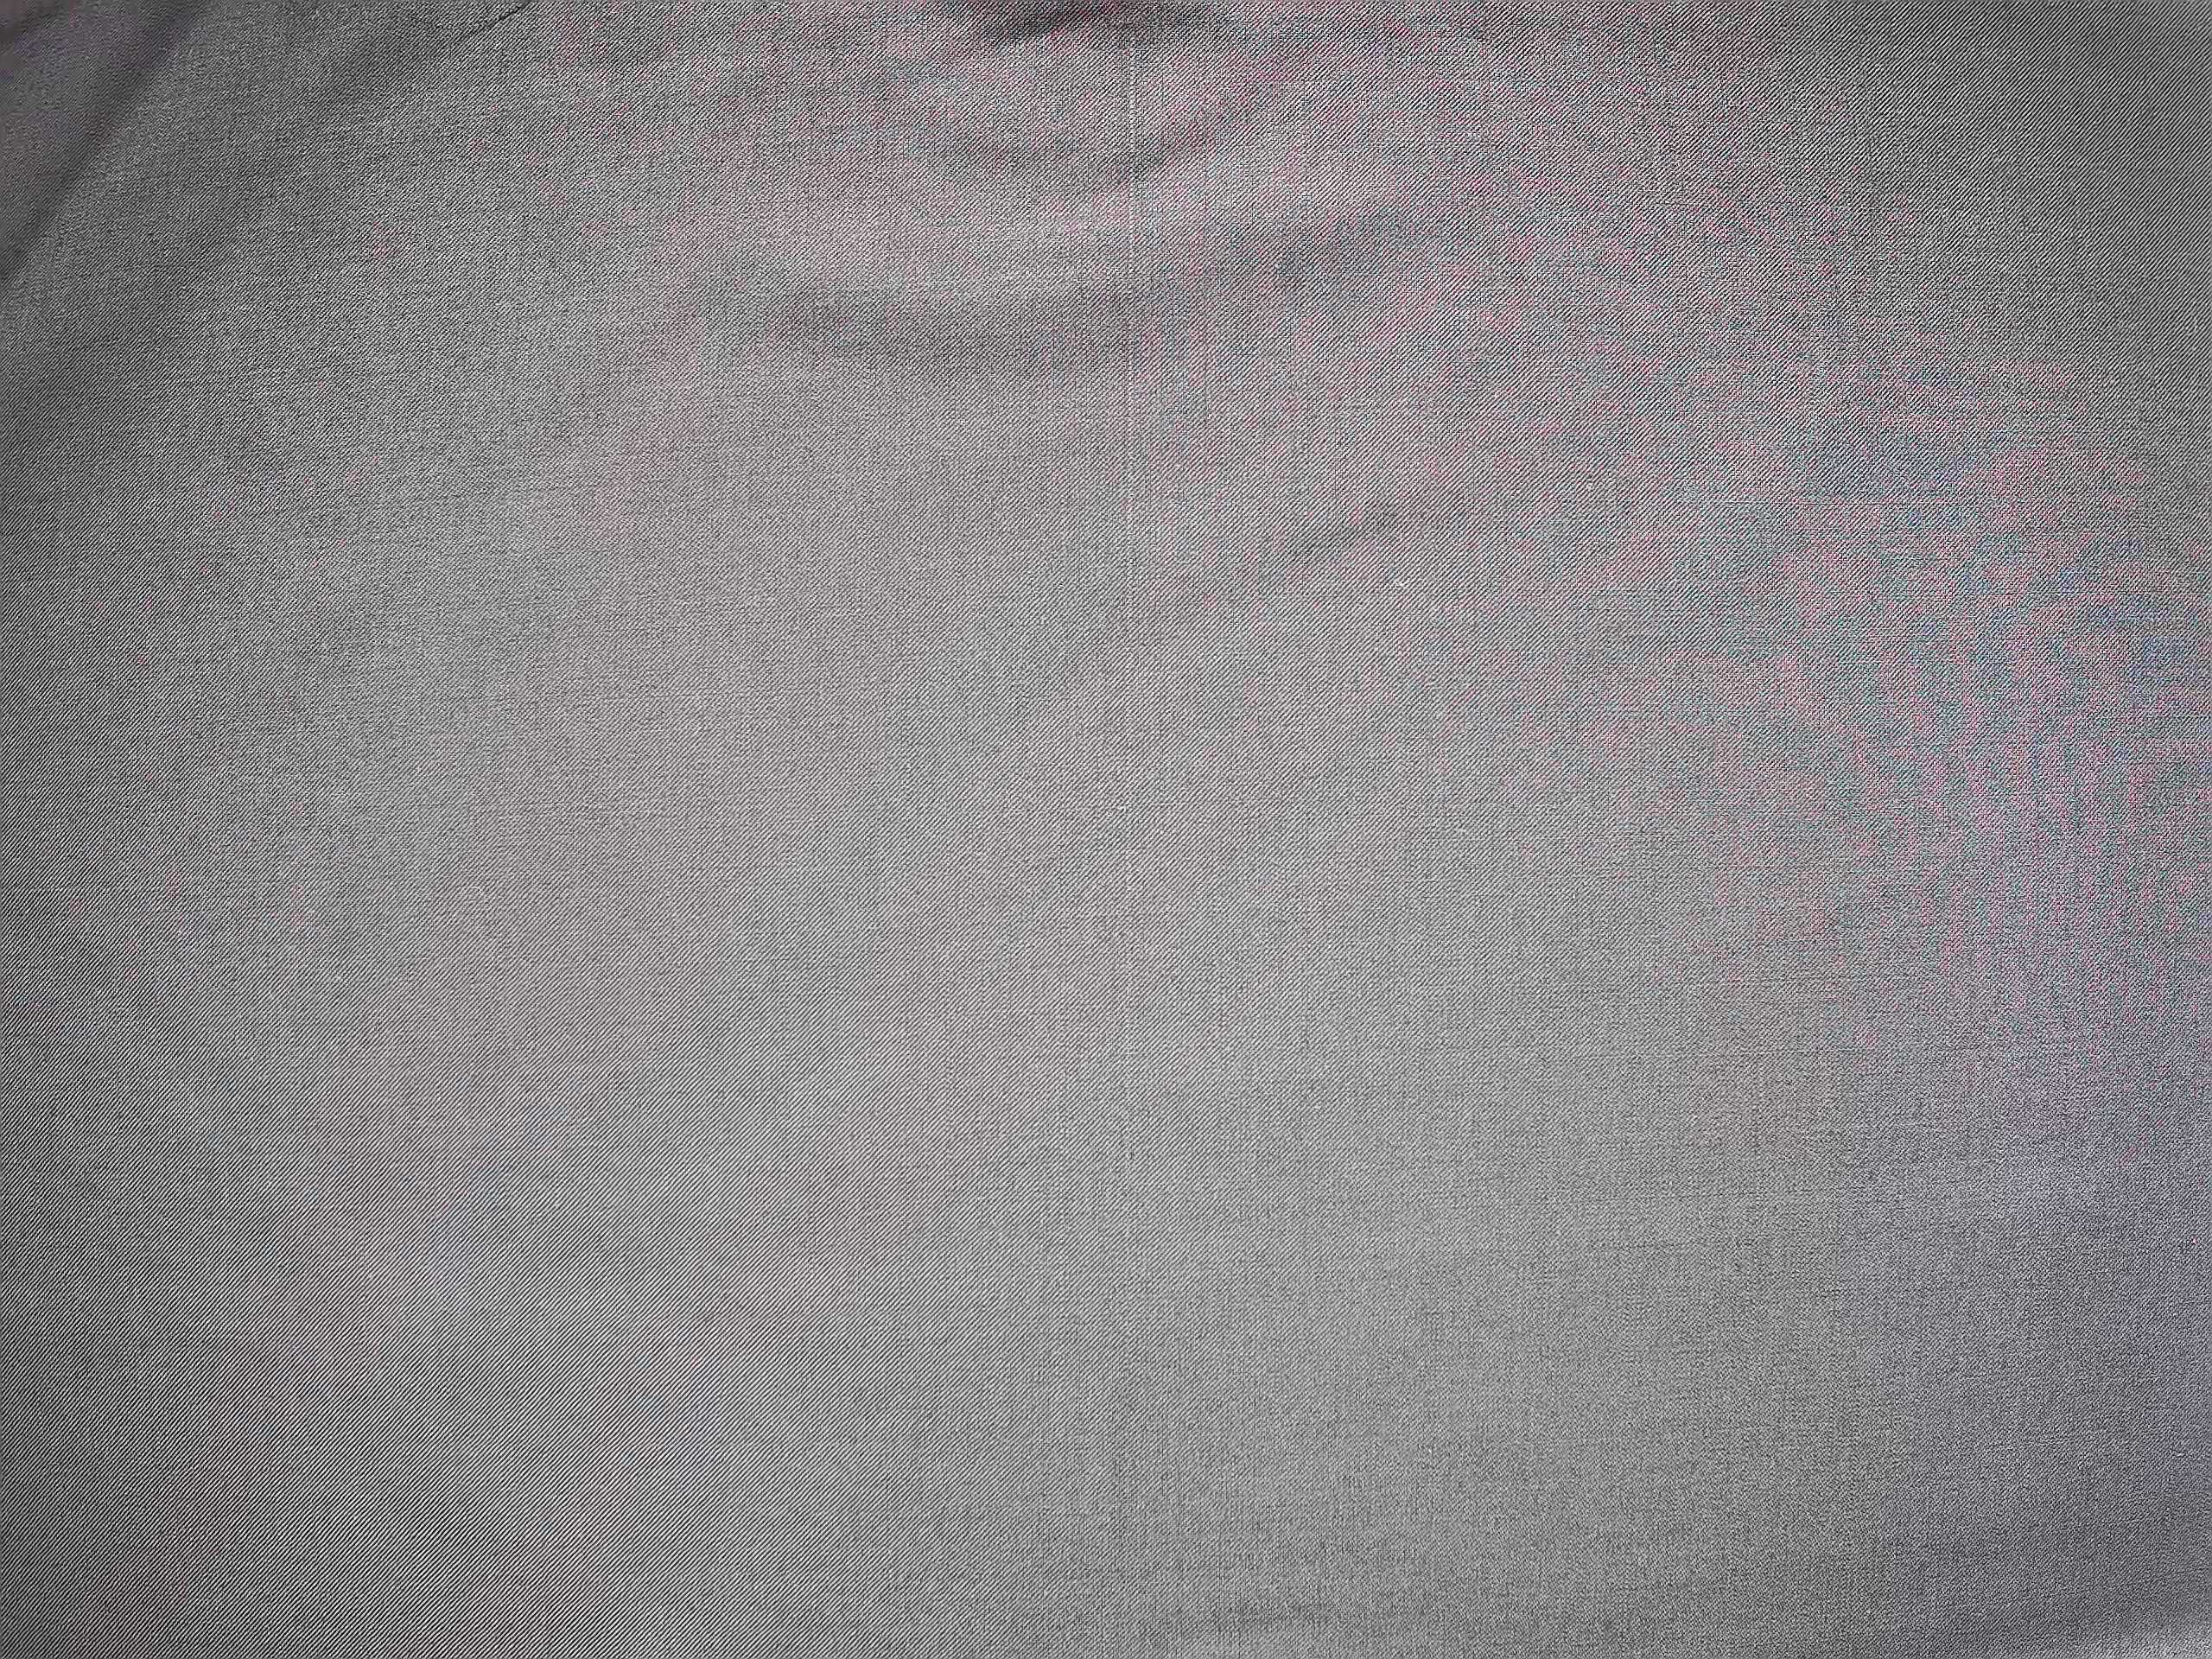hanging-warp: (1111, 10, 1146, 1173)
